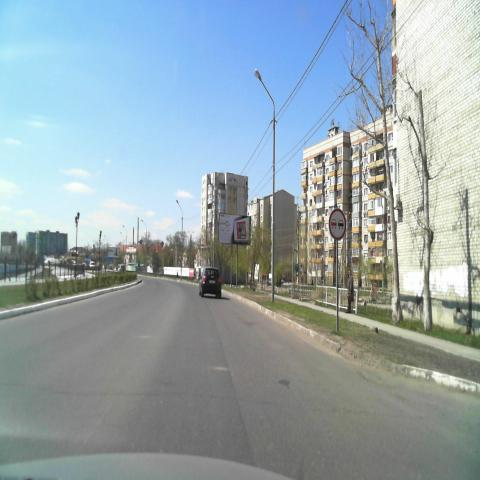3_20: (328, 208, 346, 240)
